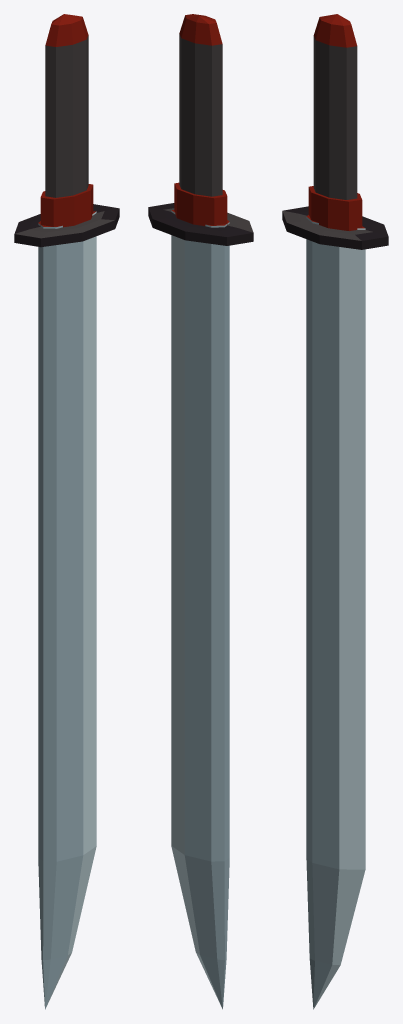
Rendered from Katana.fbx.
The picture shows the model from 3 angles, left to right: view 1: azimuth 30°, elevation 25°; view 2: azimuth 150°, elevation 25°; view 3: azimuth 330°, elevation 25°; orthographic projection.
Visible parts, largest first — view 1: katana; view 2: katana; view 3: katana.
Boxes of the visible parts, x1=… form: katana: x1=14, y1=14, x2=119, y2=1009; katana: x1=148, y1=14, x2=253, y2=1009; katana: x1=282, y1=14, x2=388, y2=1009.
Bounding box in the file's own units: 17.34 × 156 × 8.95.
